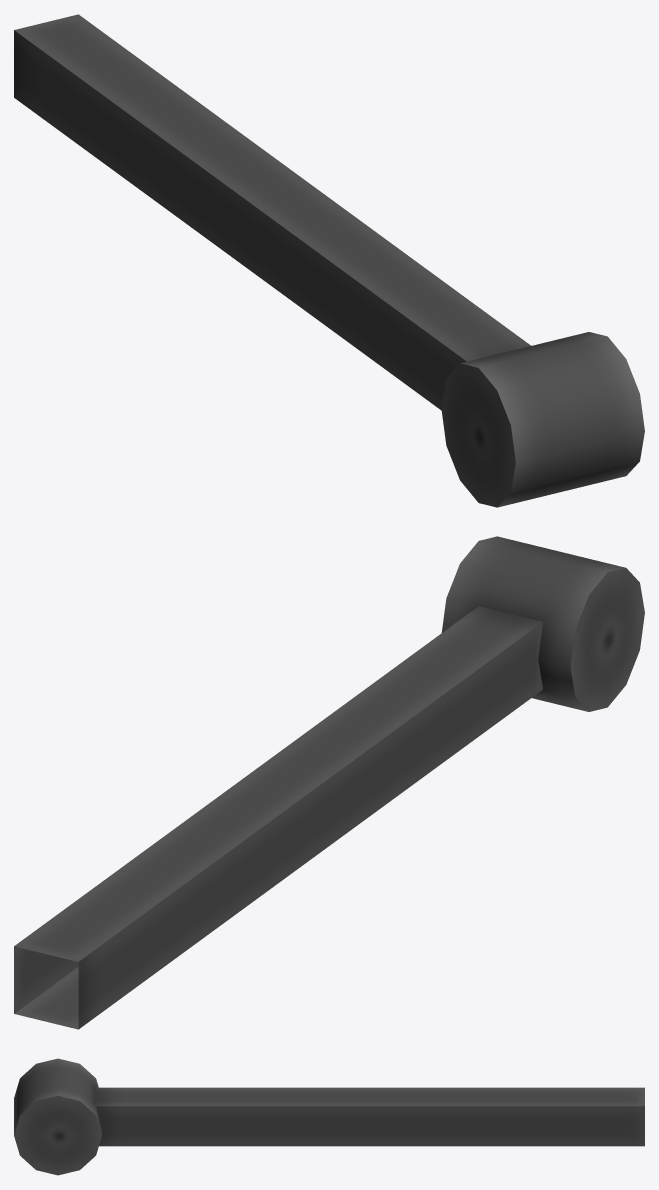
File: Libra_Antenna_2_Arm.obj
The picture shows the model from 3 angles, top to bottom: view 1: azimuth 30°, elevation 25°; view 2: azimuth 150°, elevation 25°; view 3: azimuth 270°, elevation 25°; orthographic projection. The views are drawn at different scales.
Visible parts, largest first — view 1: Libra_Antenna_B_Arm; view 2: Libra_Antenna_B_Arm; view 3: Libra_Antenna_B_Arm.
Part boxes in pixels (x1=…): Libra_Antenna_B_Arm: x1=14, y1=14, x2=644, y2=507; Libra_Antenna_B_Arm: x1=14, y1=536, x2=644, y2=1029; Libra_Antenna_B_Arm: x1=14, y1=1058, x2=644, y2=1175.
Bounding box in the file's own units: 0.03 × 0.03 × 0.215.
